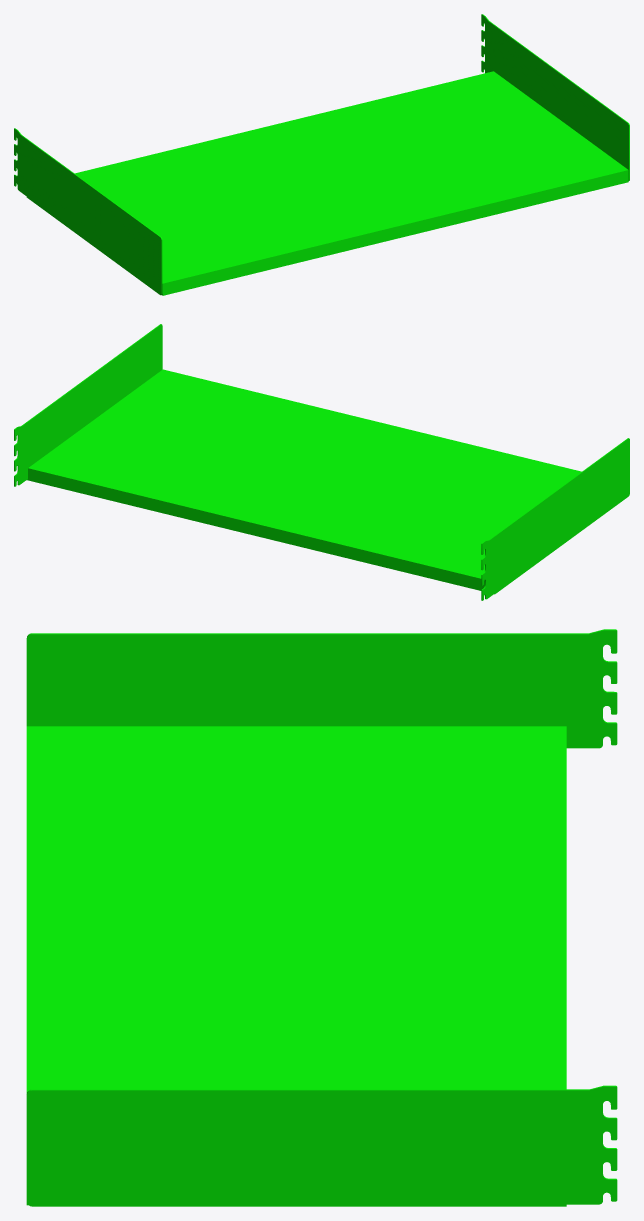
Rendered from shelf_w800_d400-v1.glb.
The picture shows the model from 3 angles, top to bottom: view 1: azimuth 30°, elevation 25°; view 2: azimuth 150°, elevation 25°; view 3: azimuth 270°, elevation 25°; orthographic projection. The views are drawn at different scales.
Parts seen in each view (by area): view 1: w800_d400; view 2: w800_d400; view 3: w800_d400.
Part boxes in pixels (x1,y1,x2,y2): w800_d400: (14,14,629,295); w800_d400: (14,324,629,600); w800_d400: (26,629,617,1206).
Size of the model in its own units: 0.8016 by 0.0981 by 0.4375.
